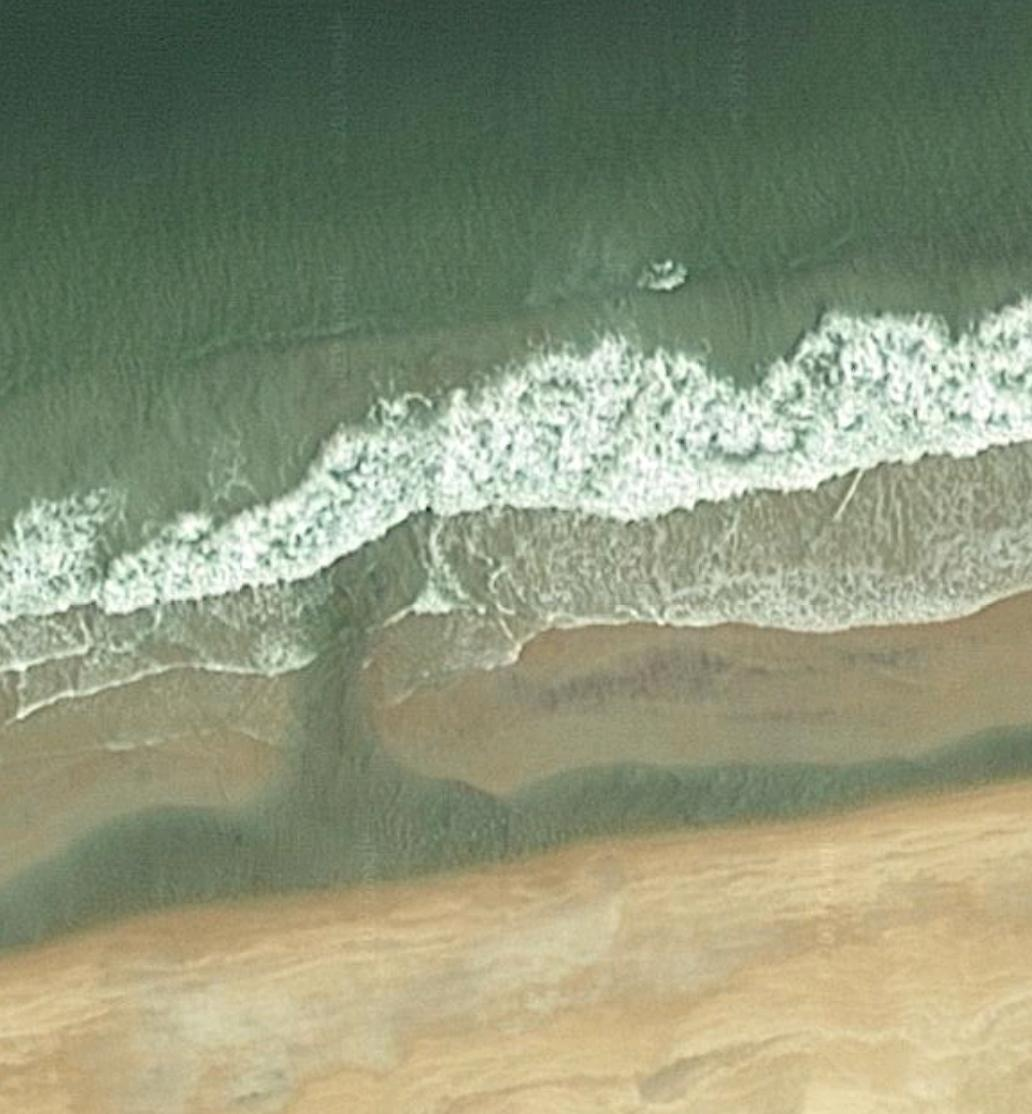rip_current: (218, 446, 435, 717)
